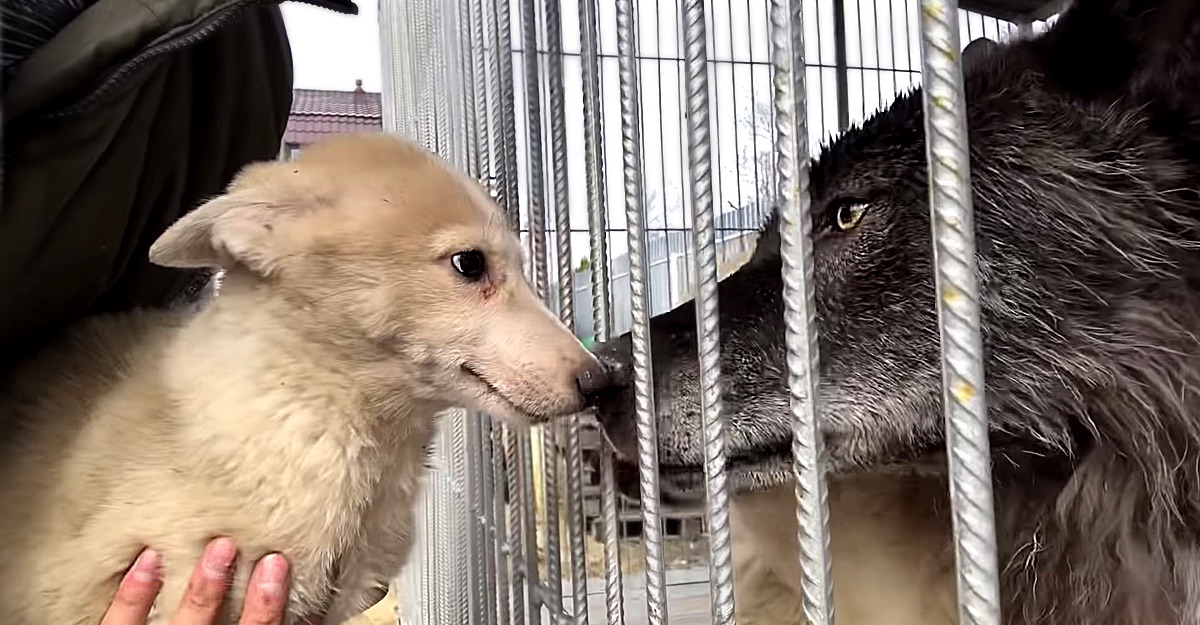Lobo: (597, 20, 1175, 568)
